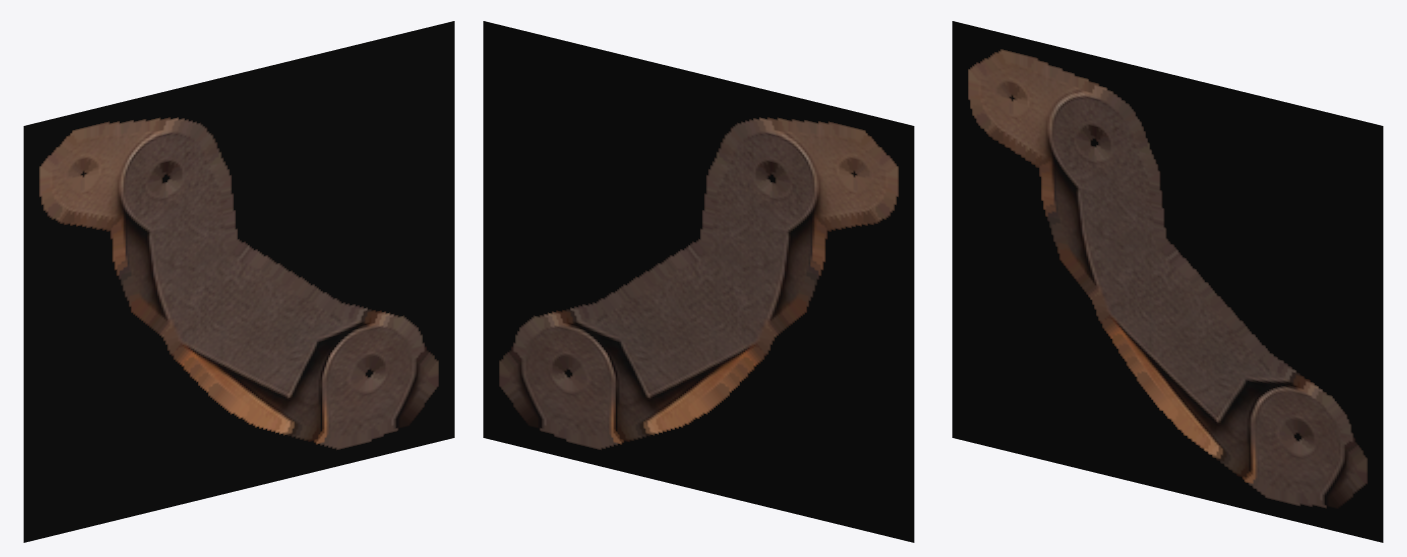
File: Variant06Upper.glb
The picture shows the model from 3 angles, left to right: view 1: azimuth 30°, elevation 25°; view 2: azimuth 150°, elevation 25°; view 3: azimuth 330°, elevation 25°; orthographic projection.
Visible parts, largest first — view 1: PaperVolume; view 2: PaperVolume; view 3: PaperVolume.
Boxes of the visible parts, x1,y1,x2,y2 form: PaperVolume: (23, 21, 454, 542); PaperVolume: (483, 21, 914, 542); PaperVolume: (952, 21, 1383, 542).
Bounding box in the file's own units: 2.12 × 1.96 × 0.08.
3 materials, 2 textured.
